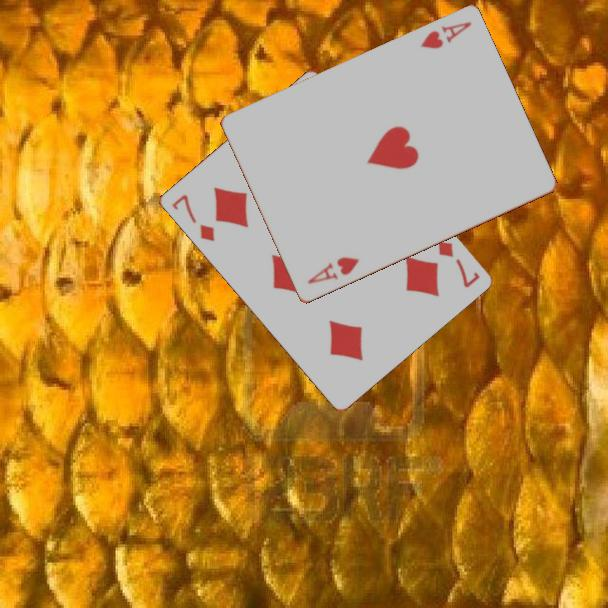d07: (433, 237, 482, 291), (168, 191, 217, 244)
h01: (416, 18, 474, 52), (304, 254, 362, 287)
